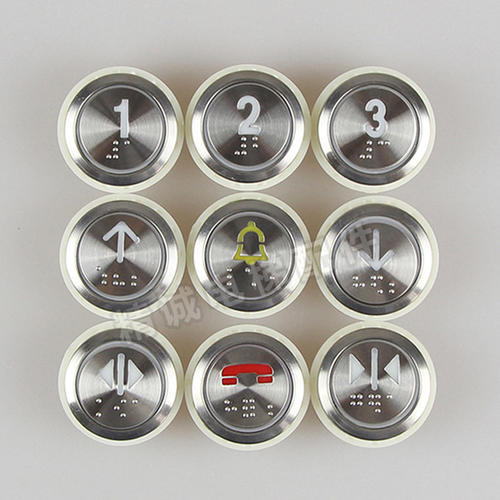Braille: (130, 265, 145, 288), (130, 398, 146, 419), (123, 139, 138, 161), (367, 392, 382, 414), (112, 397, 127, 419), (112, 264, 126, 287), (104, 140, 120, 160), (369, 275, 385, 295), (94, 398, 110, 418), (349, 393, 364, 414), (226, 266, 240, 288), (233, 136, 248, 156), (251, 136, 266, 156), (376, 140, 391, 160), (351, 274, 366, 294), (388, 275, 403, 295), (223, 399, 238, 419), (244, 266, 258, 287), (262, 267, 276, 288), (241, 399, 256, 418), (359, 140, 373, 160), (96, 265, 109, 286), (385, 393, 398, 414), (261, 398, 274, 417)
